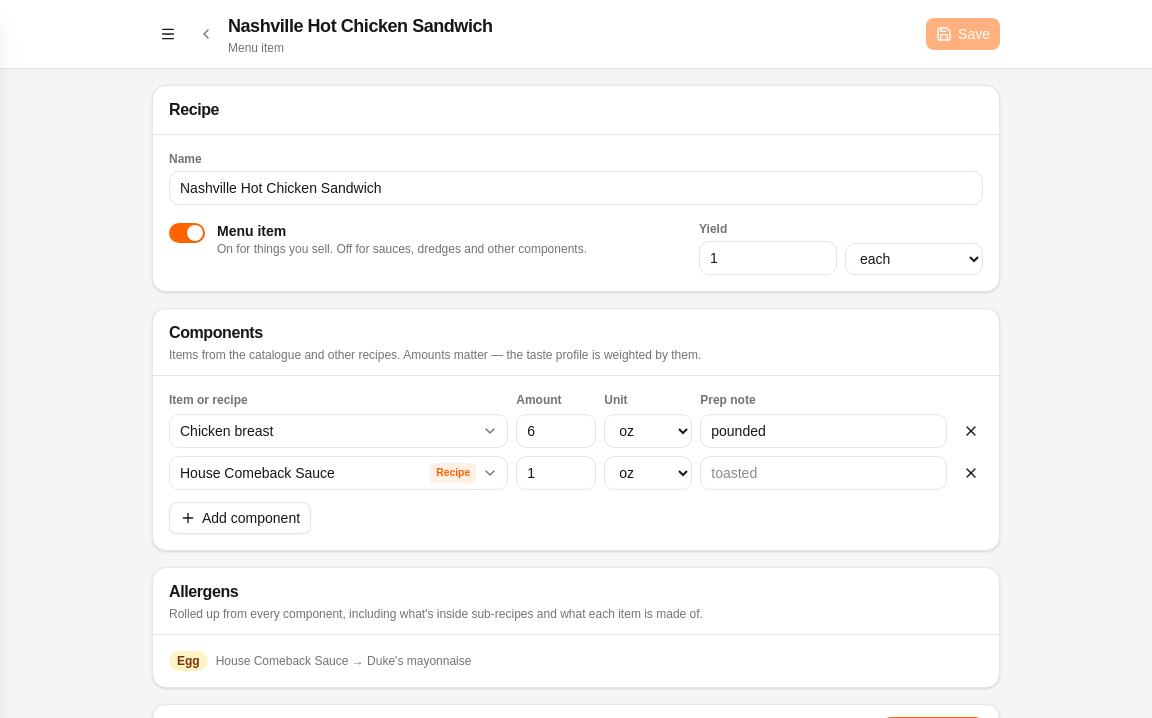
RecipeBuilder › picks a component by typing, and the allergens follow before saving
Expected: the button "Save" is disabled, [926,18,1000,50]
Click the button "Add component" at (240, 518), box [169,502,311,534]
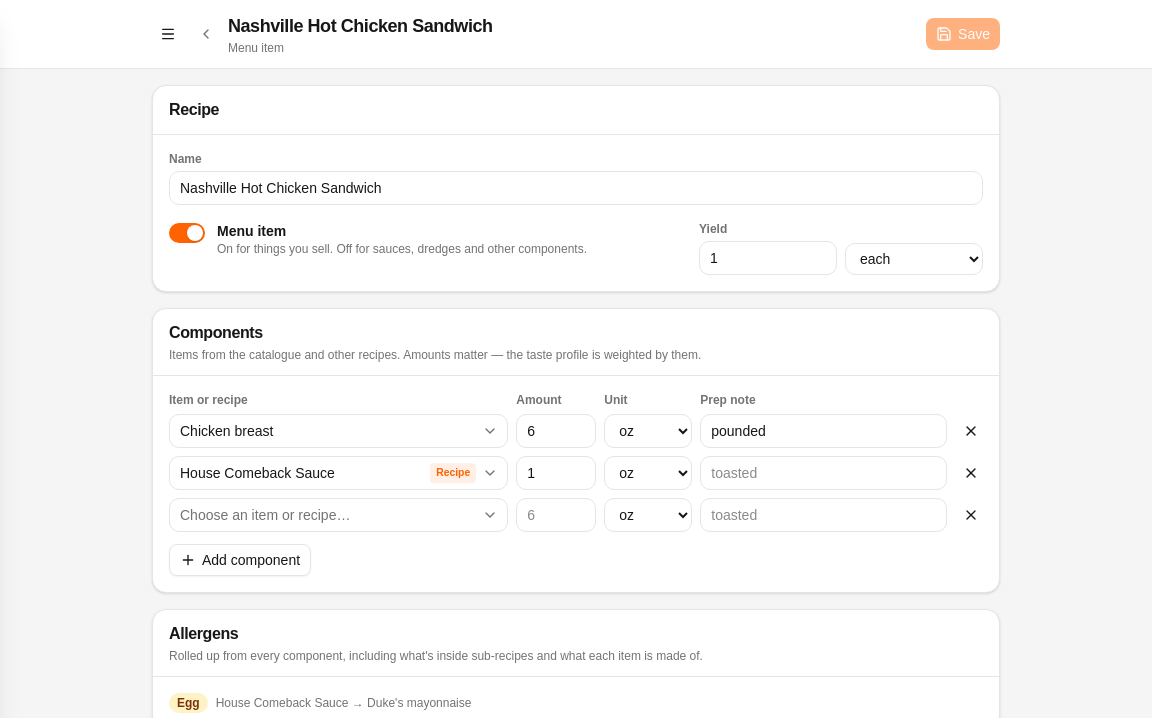
Type "bri" into the dropdown named "Component 3" at (339, 515), box [169,498,508,532]
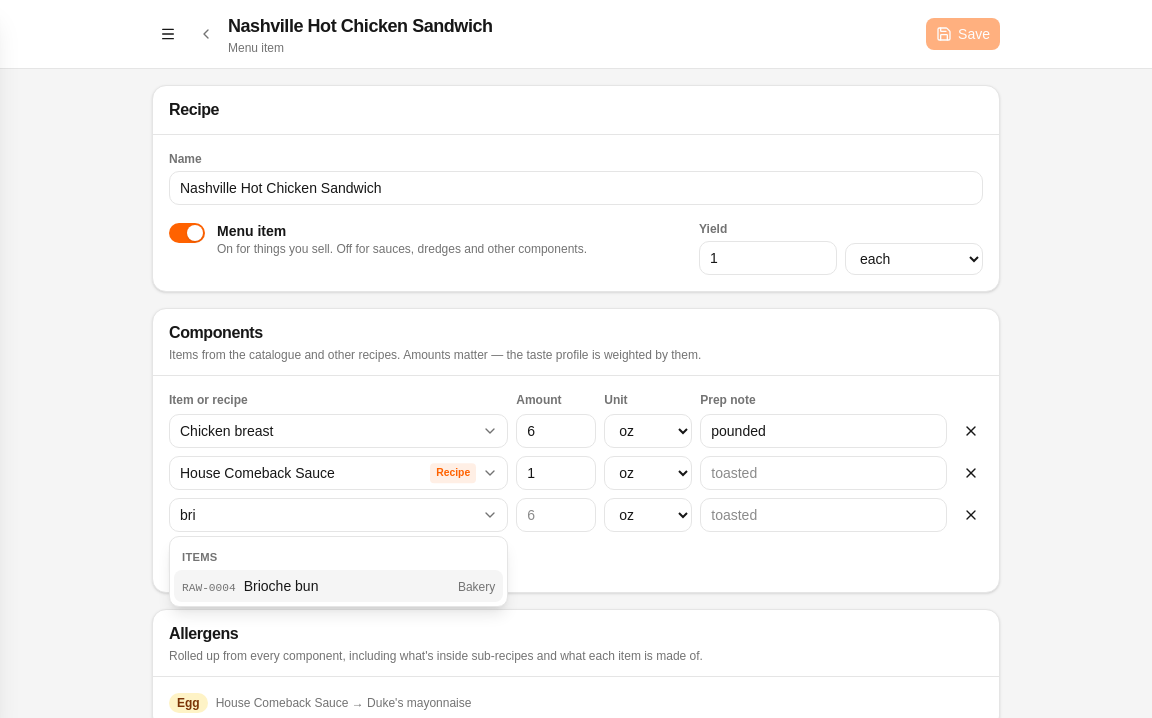
Expected: the options read "RAW-0004Brioche bunBakery", in this order, [174,570,503,602]
Press Enter in the dropdown named "Component 3", box [169,498,508,532]
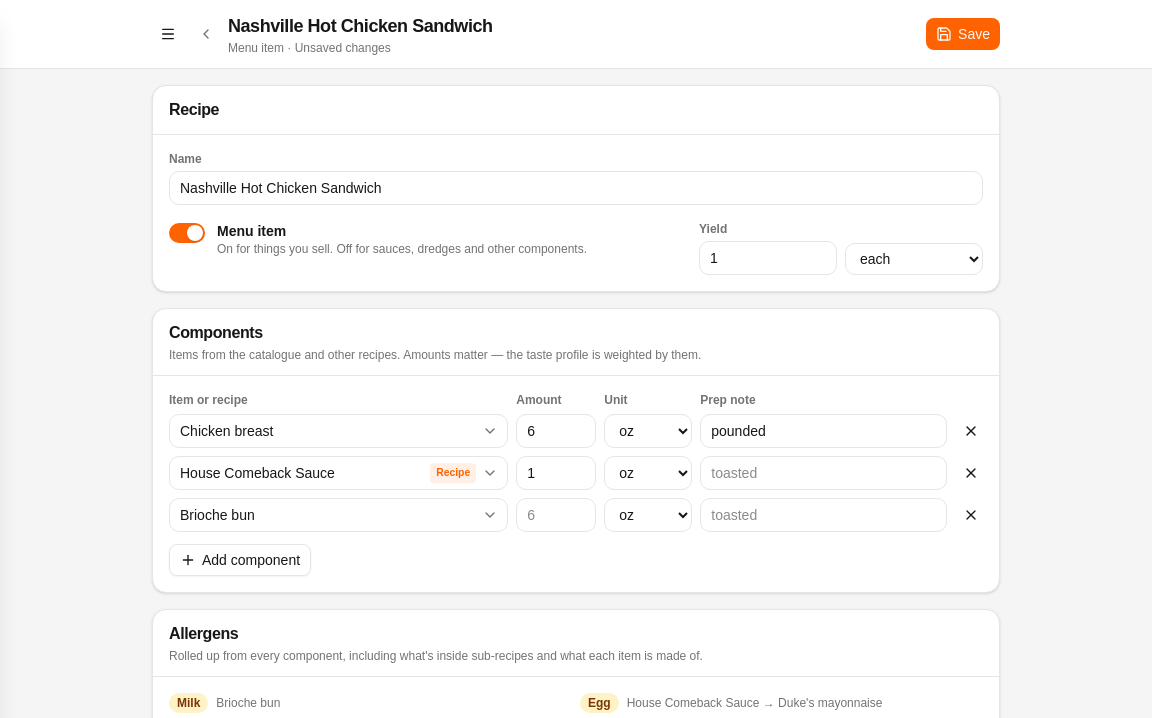
Expected: the list "Items RAW-0004 Brioche bun Bakery" is gone
Expected: the dropdown named "Component 3" holds "Brioche bun", [169,498,508,532]
Expected: the text "Menu item · Unsaved changes" is shown, [228,41,391,55]
